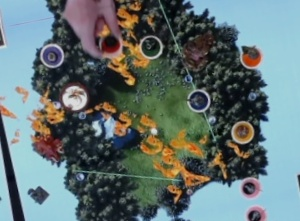blue: (184, 85, 213, 113)
green: (136, 31, 166, 62)
orange: (236, 42, 264, 71)
pink: (230, 171, 266, 201)
red: (94, 29, 125, 60)
violet: (37, 40, 66, 71)
yellow: (226, 115, 257, 147)
